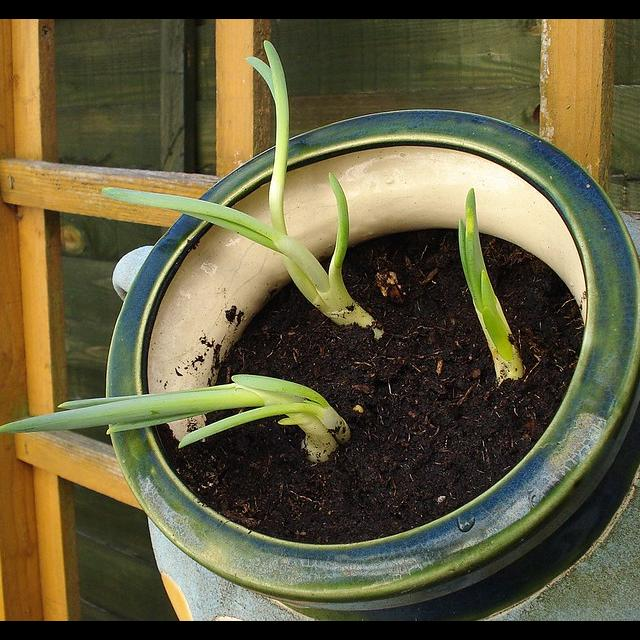green_onion: (106, 40, 383, 338), (0, 375, 350, 462), (460, 189, 526, 384)
